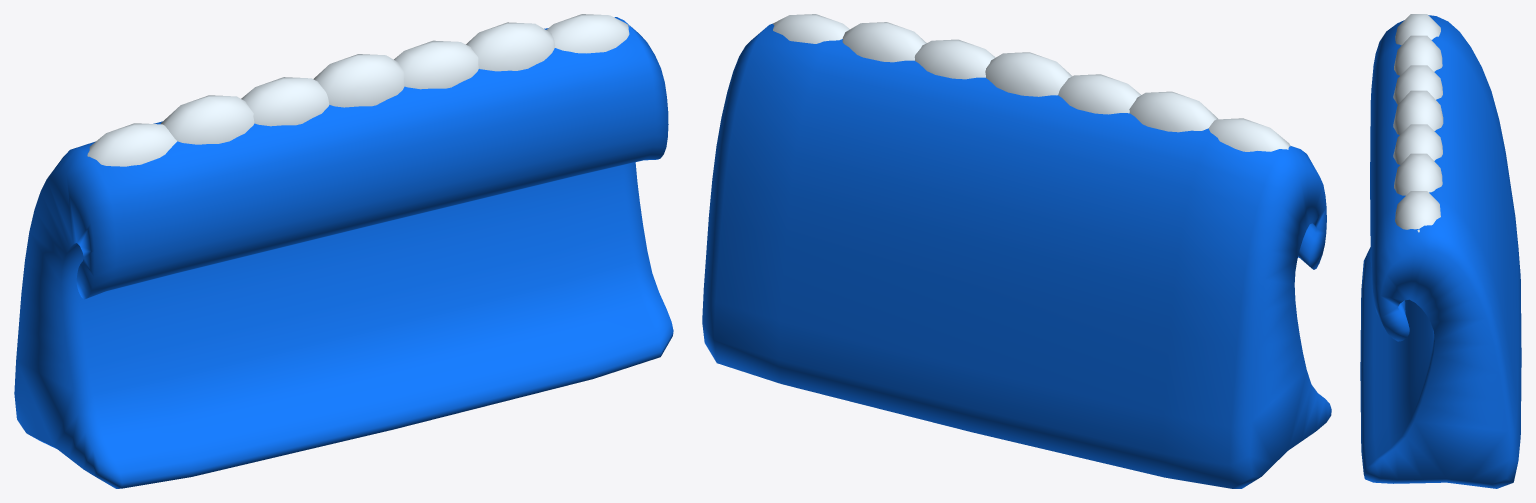
Rendered from BE_PowerMesh_Wave.fbx.
The picture shows the model from 3 angles, left to right: view 1: azimuth 30°, elevation 25°; view 2: azimuth 150°, elevation 25°; view 3: azimuth 270°, elevation 25°; orthographic projection. The views are drawn at different scales.
Parts seen in each view (by area): view 1: BE_PowerMesh_Wave; view 2: BE_PowerMesh_Wave; view 3: BE_PowerMesh_Wave.
Part boxes in pixels (x1=…): BE_PowerMesh_Wave: x1=14, y1=14, x2=673, y2=488; BE_PowerMesh_Wave: x1=702, y1=14, x2=1331, y2=488; BE_PowerMesh_Wave: x1=1360, y1=14, x2=1521, y2=488.
Size of the model in its own units: 500 by 300 by 150.
1 material, 1 textured.
